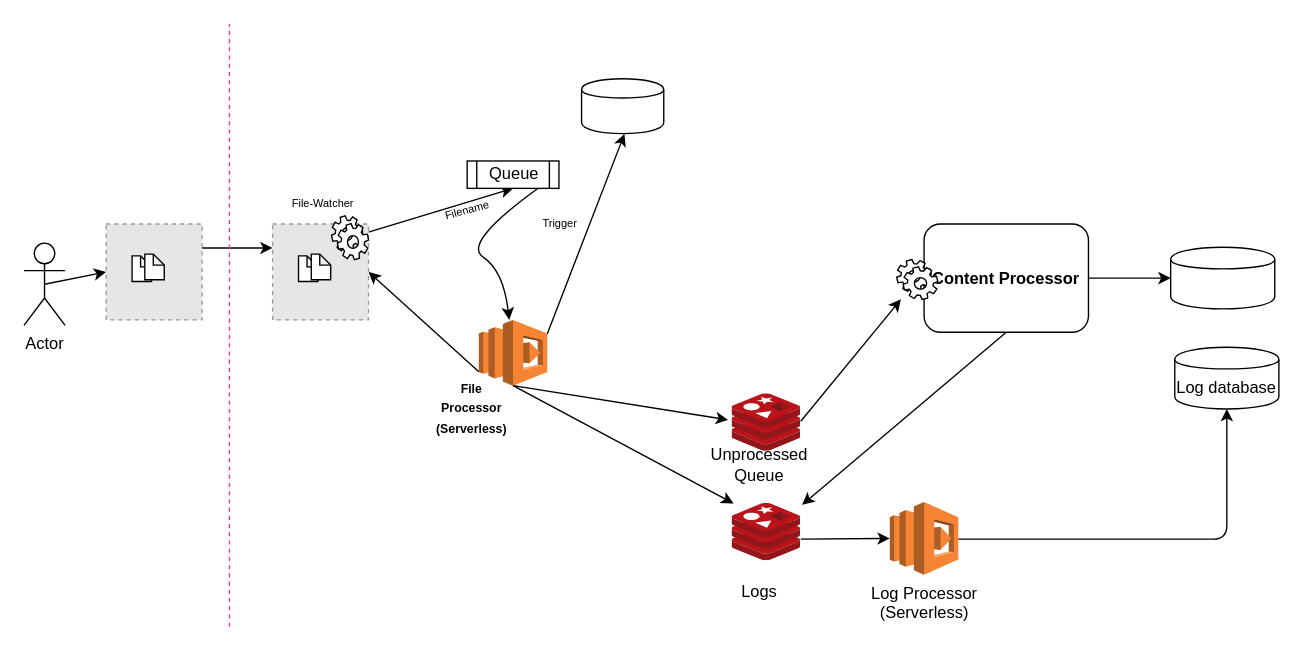
The diagram is 1303 pixels wide and 652 high, and some of its shapes have lost their labels. Grey dashed boxes stand in for pictures. The centre of each missing label's shape, as x and y in pixels:
File Database: (622,105)
Main DB: (1222,277)
